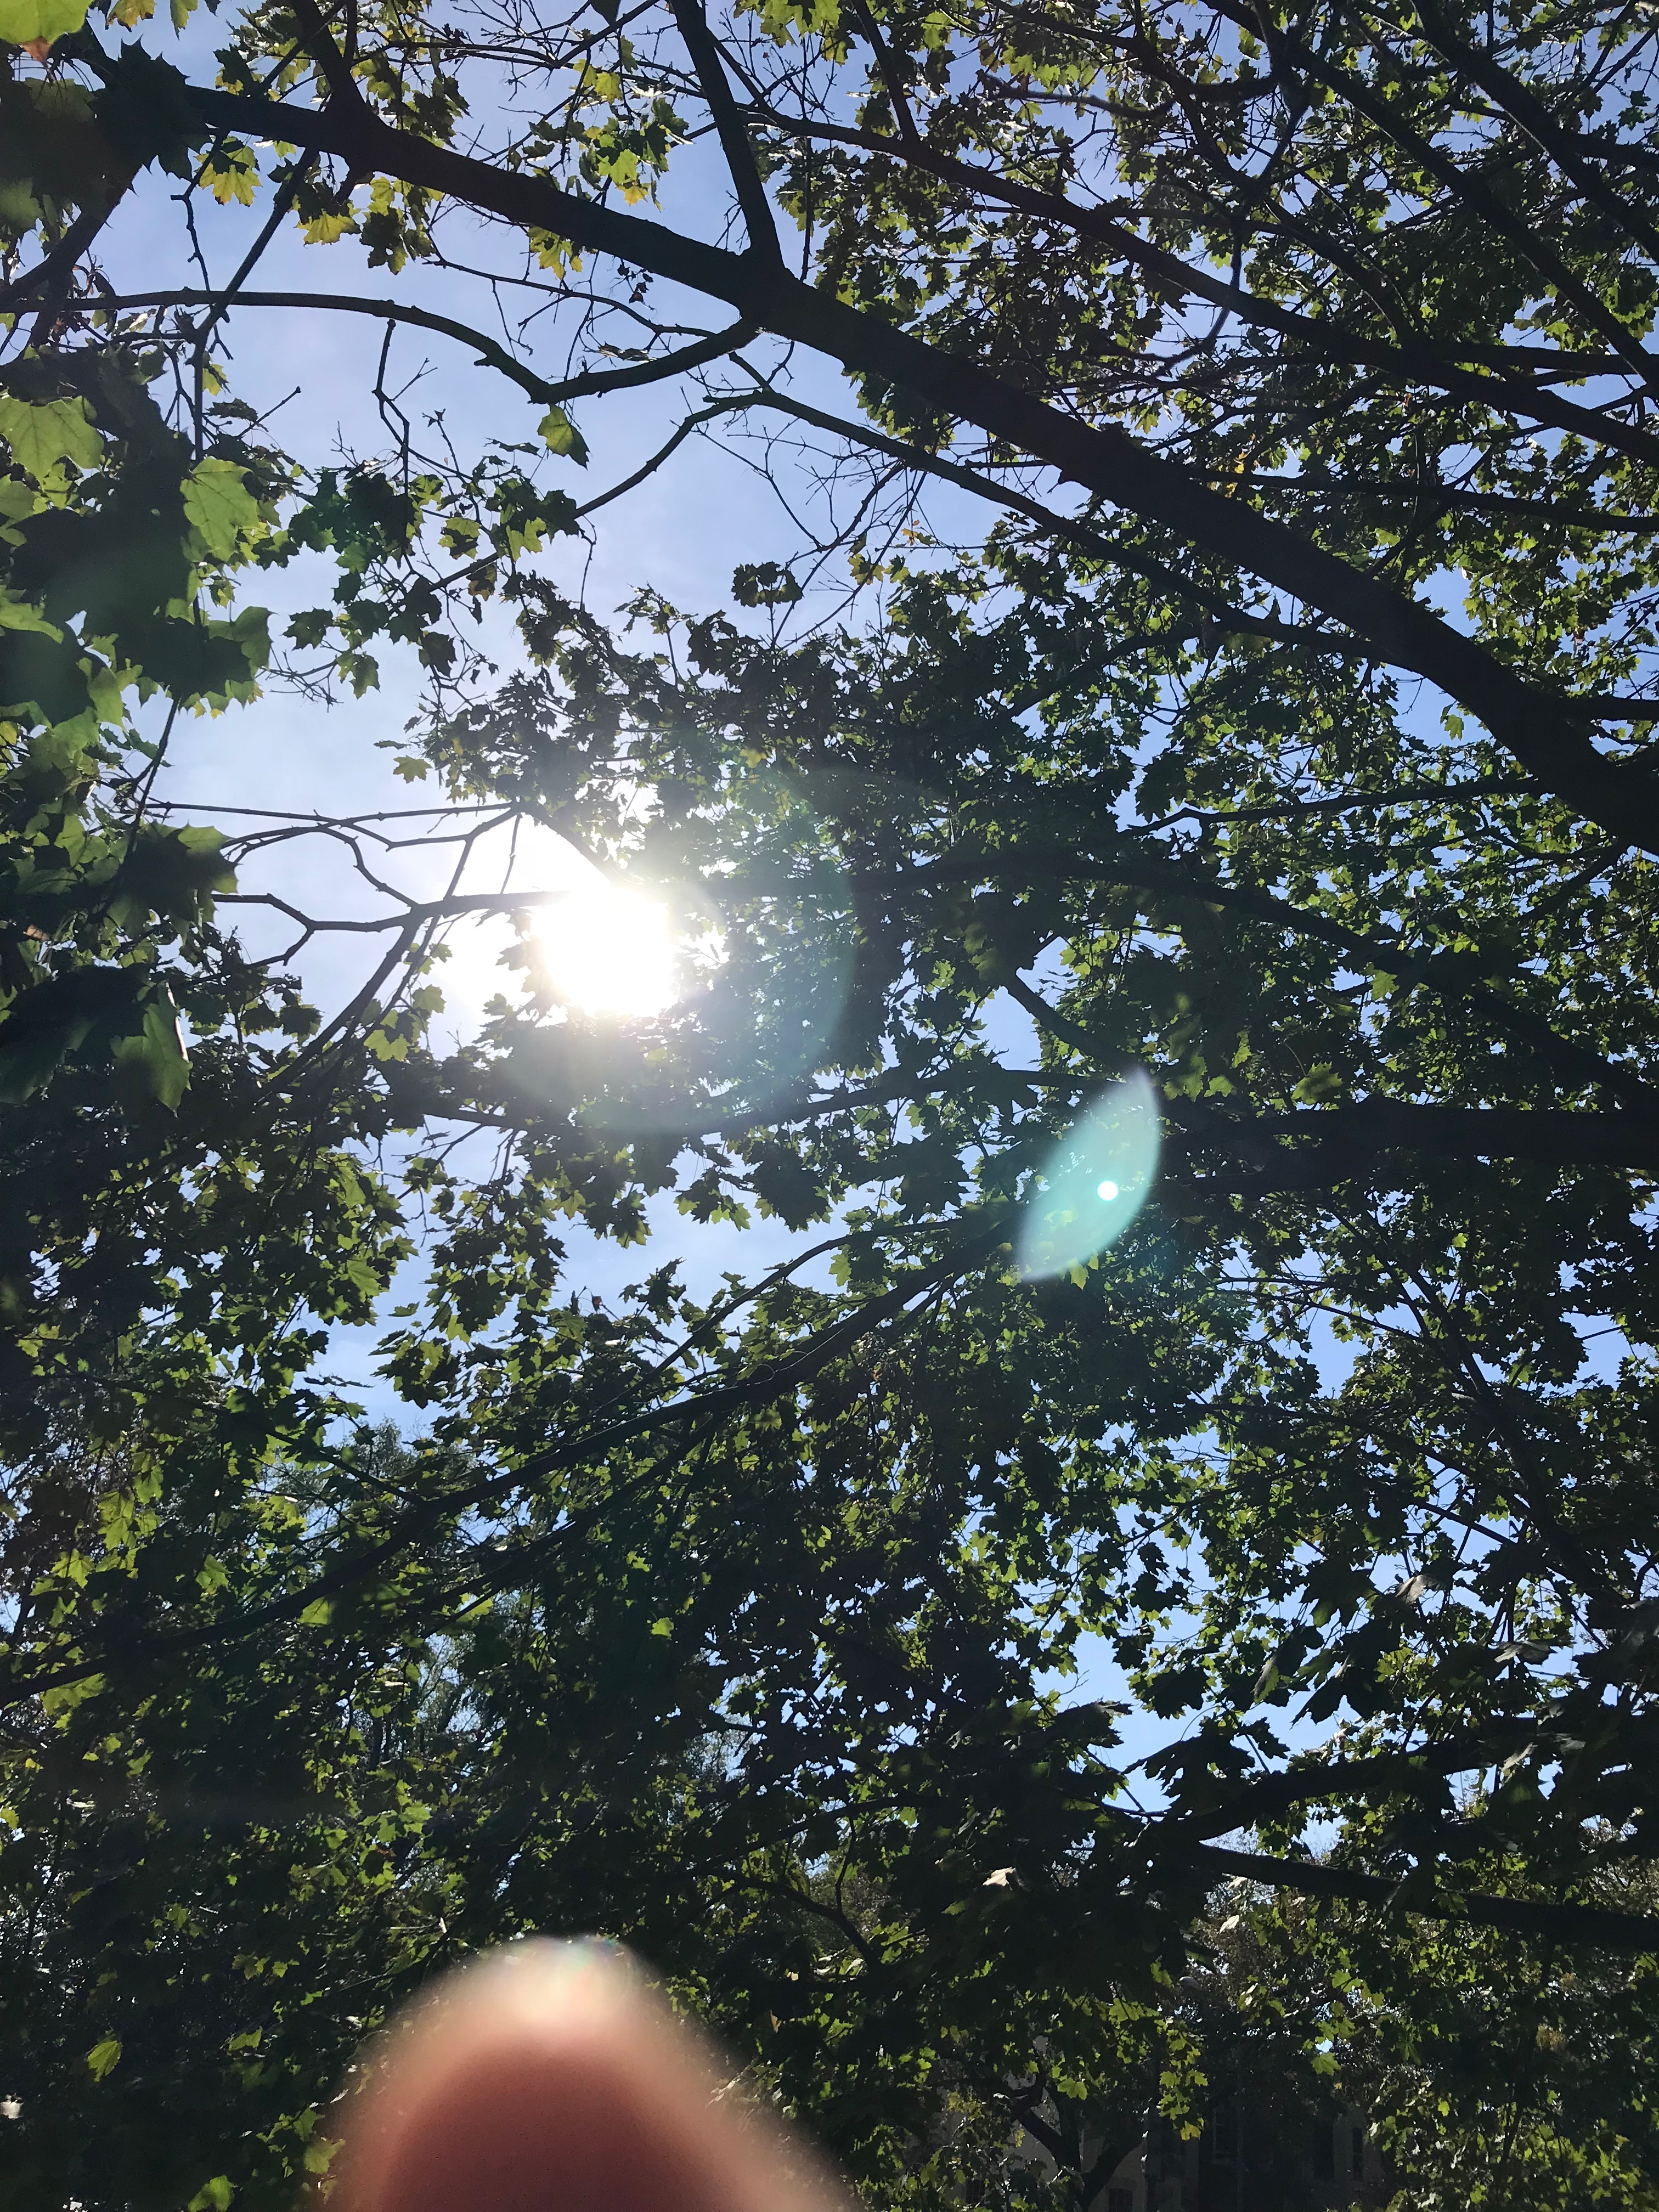flare: (1096, 1179, 1121, 1202)
